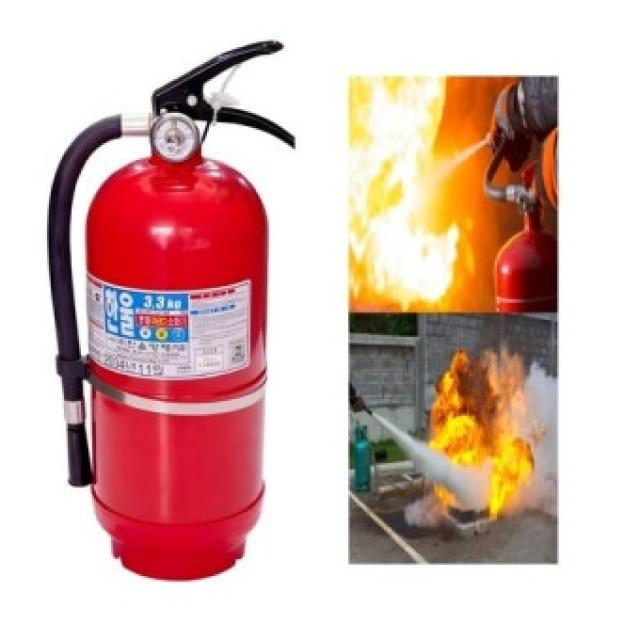pressure gauge: (151, 113, 199, 161)
